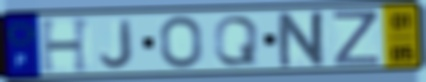H: (38, 16, 94, 75)
J: (97, 18, 135, 70)
N: (276, 8, 329, 70)
O: (157, 15, 206, 70)
Q: (212, 14, 261, 67)
Z: (331, 9, 382, 67)
